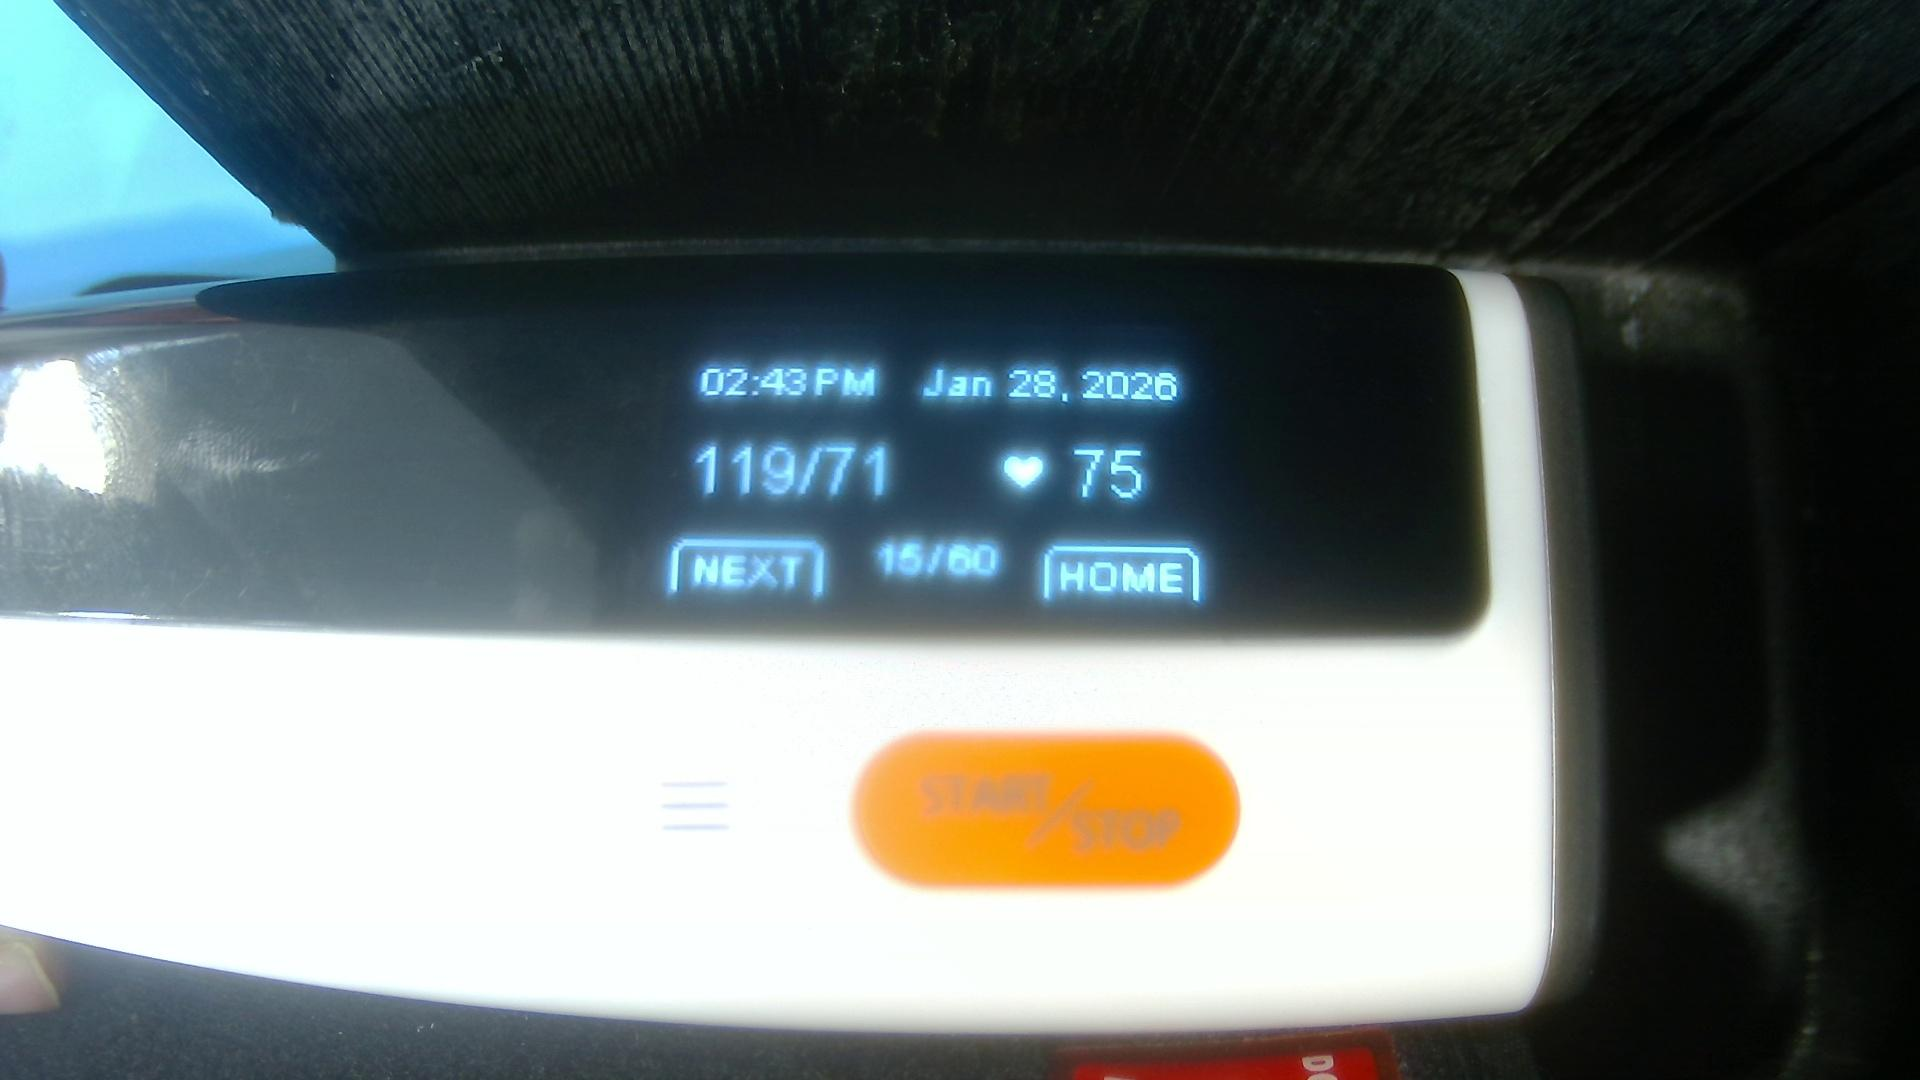DISPLAY: (8, 272, 1451, 638)
